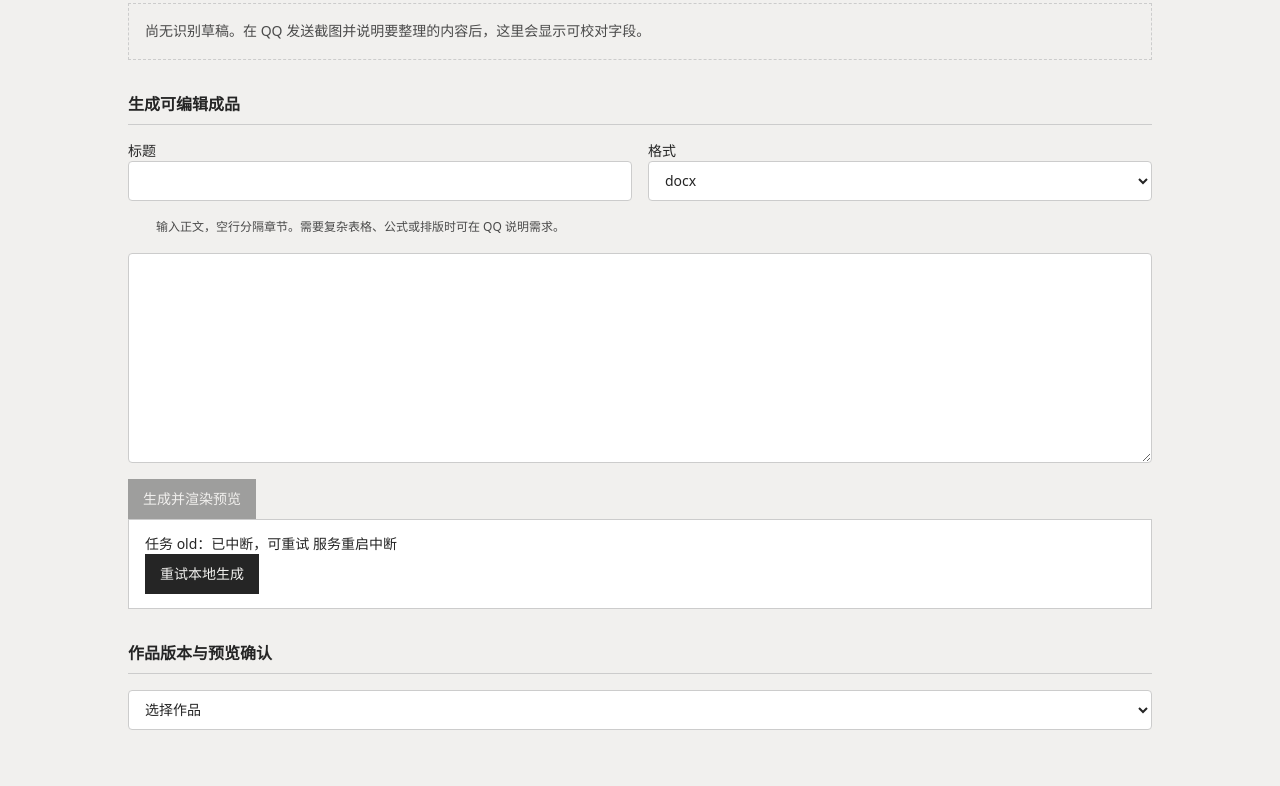
Test: materials operations › shows interrupted persisted jobs and retries only on request
This screenshot has width=1280, height=786.
(page scrolled)
Click the button "重试本地生成" at (202, 574), box [145, 554, 259, 594]
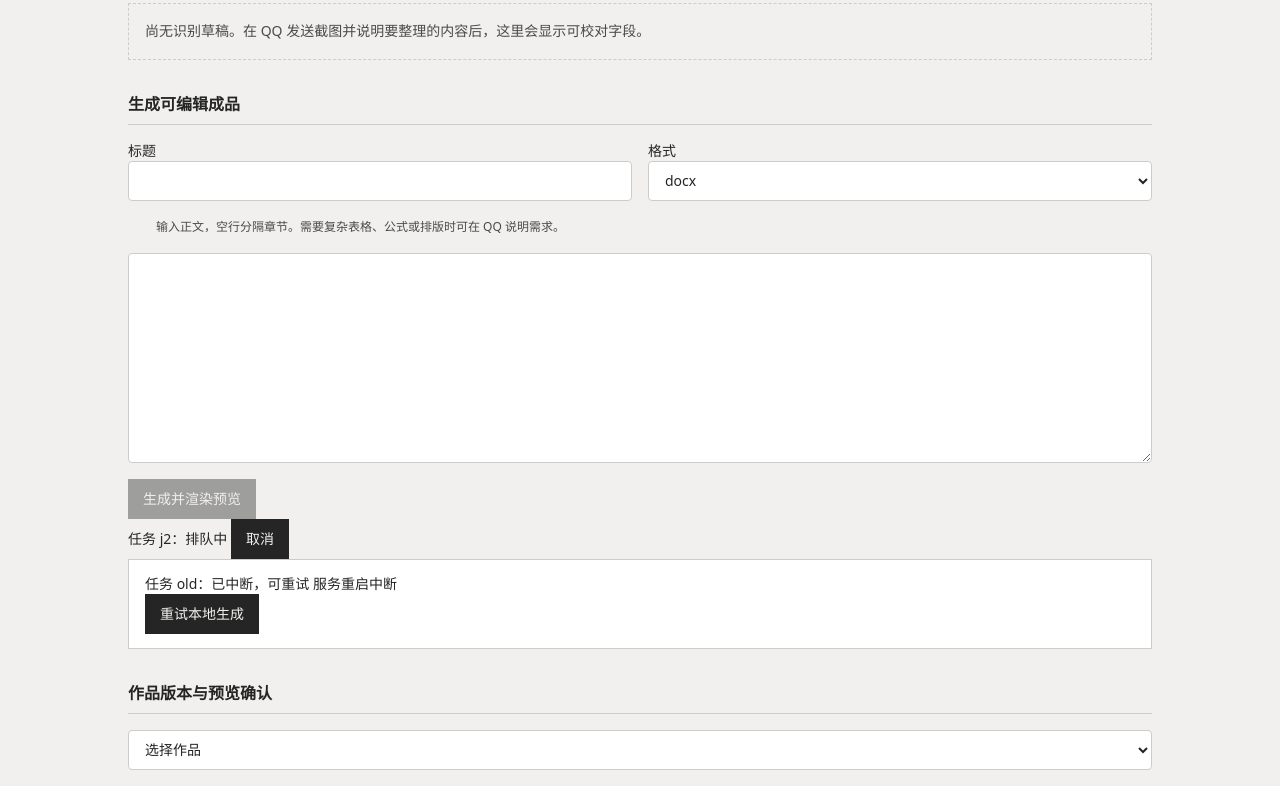
expect the text "任务 j2：排队中 取消" is shown: met, box [128, 519, 289, 559]
